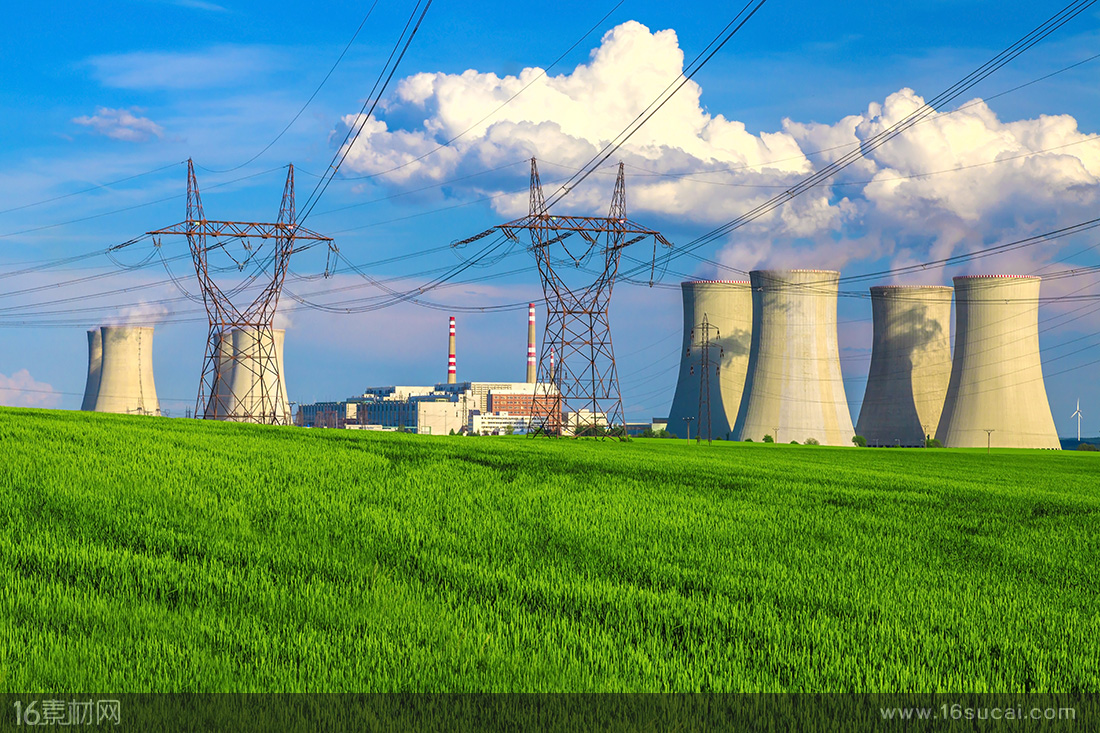dust: (865, 224, 1069, 299), (693, 228, 871, 293), (208, 270, 341, 335), (73, 277, 175, 332)
